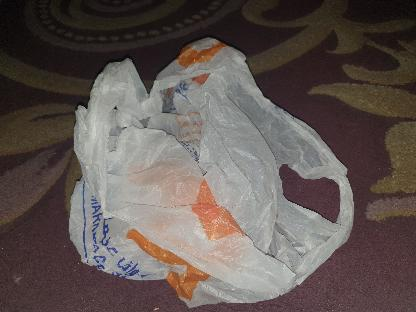Plastic Bag: (68, 37, 354, 309)
